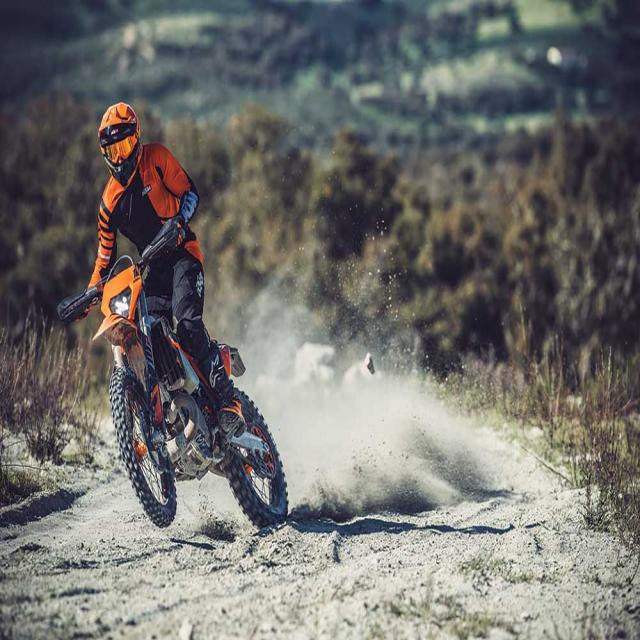MOTORCYCLE: (95, 264, 296, 534)
